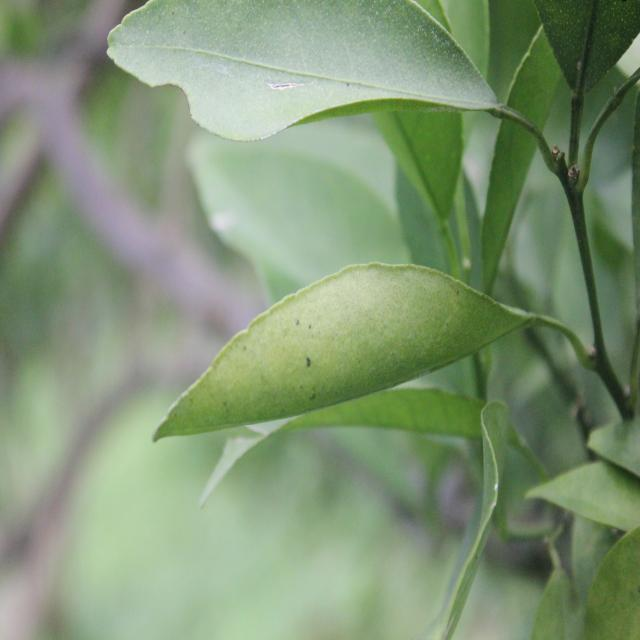melanose: (161, 245, 501, 442)
